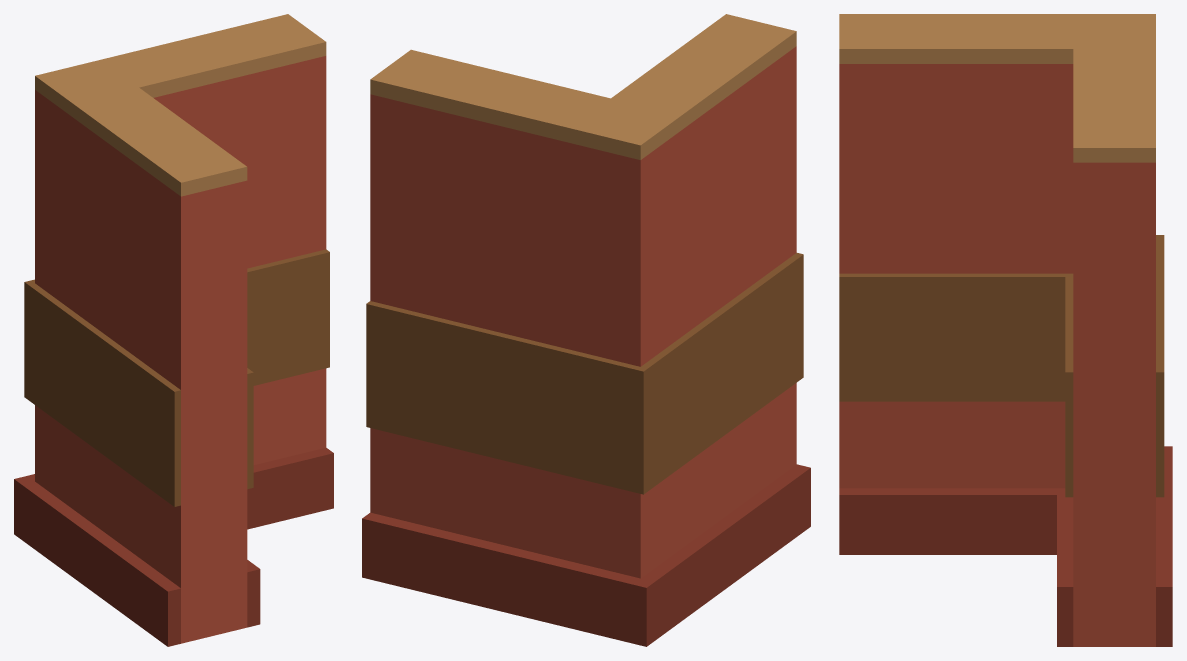
Rendered from partition-full-elbow.glb.
The picture shows the model from 3 angles, left to right: view 1: azimuth 30°, elevation 25°; view 2: azimuth 150°, elevation 25°; view 3: azimuth 270°, elevation 25°; orthographic projection. The views are drawn at different scales.
Parts seen in each view (by area): view 1: partition-full-elbow; view 2: partition-full-elbow; view 3: partition-full-elbow.
Part boxes in pixels (bbox=[...]): partition-full-elbow: bbox=[14, 14, 333, 646]; partition-full-elbow: bbox=[362, 14, 810, 646]; partition-full-elbow: bbox=[839, 14, 1172, 646].
Bounding box in the file's own units: 0.605 × 1 × 0.605.
1 material, 1 textured.
